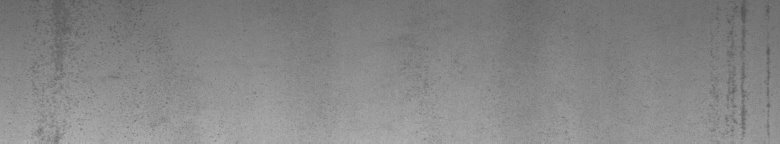ib: (31, 24, 125, 136)
